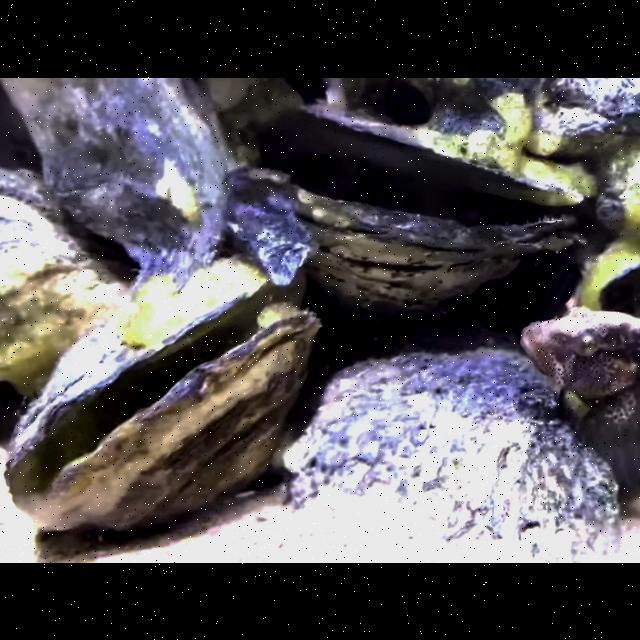Oyster-Closed: (2, 76, 226, 254), (0, 195, 126, 398)
Oyster-Open: (4, 262, 323, 534), (214, 101, 590, 313)
